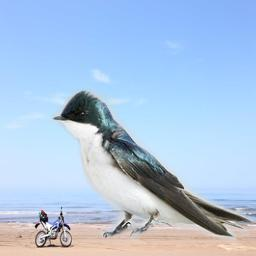Swallow: (50, 87, 254, 244)
